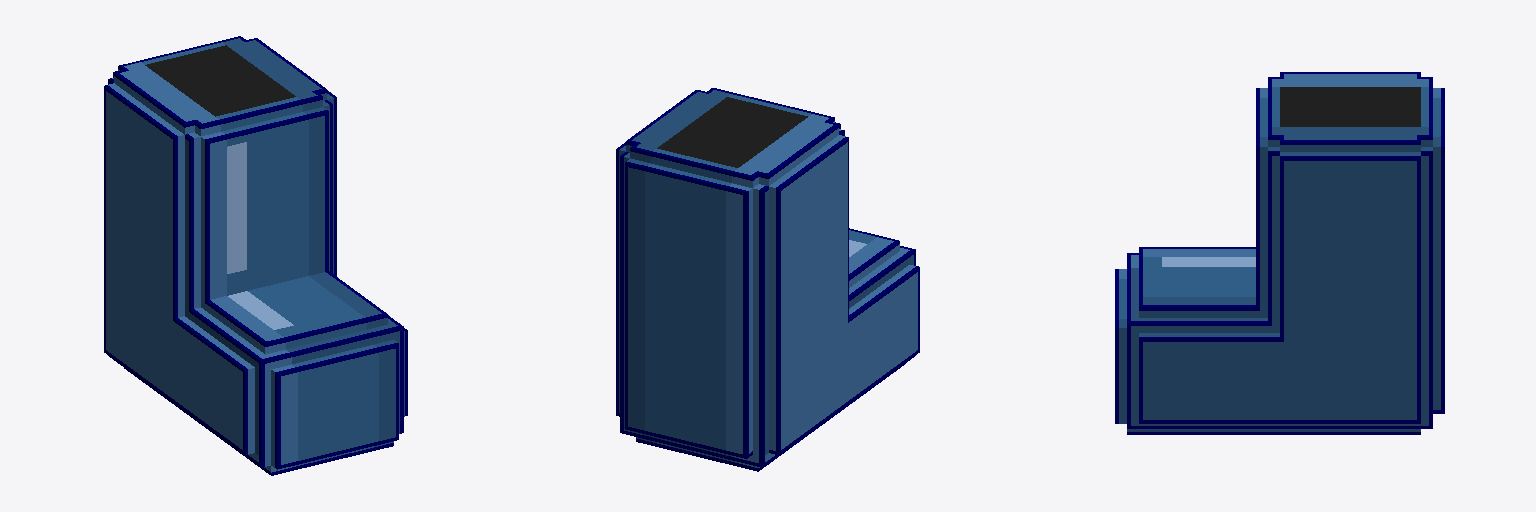
3 views of the same model, side by side, from view 1: azimuth 30°, elevation 25°; view 2: azimuth 150°, elevation 25°; view 3: azimuth 270°, elevation 25° (orthographic).
Visible parts, largest first — view 1: object 1; view 2: object 1; view 3: object 1.
Boxes of the visible parts, x1,y1,x2,y2 form: object 1: [104, 36, 407, 475]; object 1: [616, 88, 919, 471]; object 1: [1115, 72, 1444, 434].
Size of the model in its own units: 4.8 by 8.4 by 8.4.
Materials: 1 (1 with a texture image).